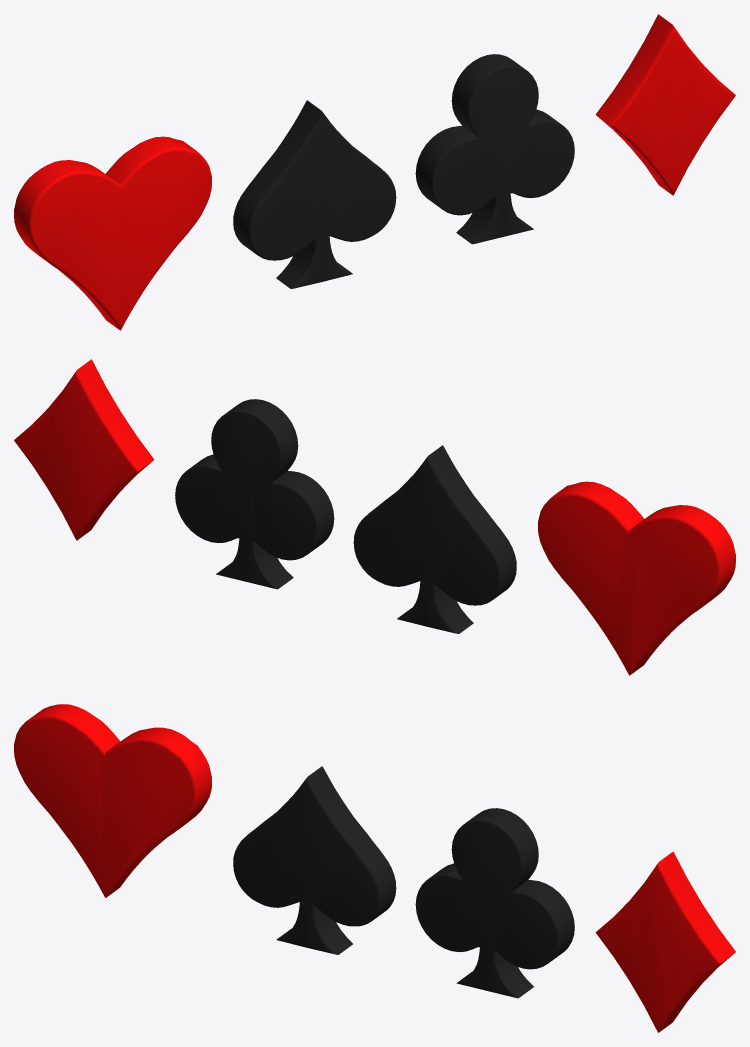
The model's file is CardSymbols.fbx.
3 views of the same model, one above another, from view 1: azimuth 30°, elevation 25°; view 2: azimuth 150°, elevation 25°; view 3: azimuth 330°, elevation 25° (orthographic).
Visible parts, largest first — view 1: Hearts, Clubs, Spades, Diamonds; view 2: Hearts, Clubs, Spades, Diamonds; view 3: Hearts, Clubs, Spades, Diamonds.
Boxes of the visible parts, <box> form: Hearts: <box>14,136,211,330</box>; Clubs: <box>415,54,574,244</box>; Spades: <box>233,100,396,288</box>; Diamonds: <box>595,14,735,195</box>; Hearts: <box>538,481,735,675</box>; Clubs: <box>175,399,334,589</box>; Spades: <box>353,445,516,633</box>; Diamonds: <box>14,359,154,540</box>; Hearts: <box>14,704,211,897</box>; Clubs: <box>415,808,574,998</box>; Spades: <box>233,766,396,954</box>; Diamonds: <box>595,851,735,1032</box>.
Bounding box in the file's own units: 2218 × 514 × 93.86.
